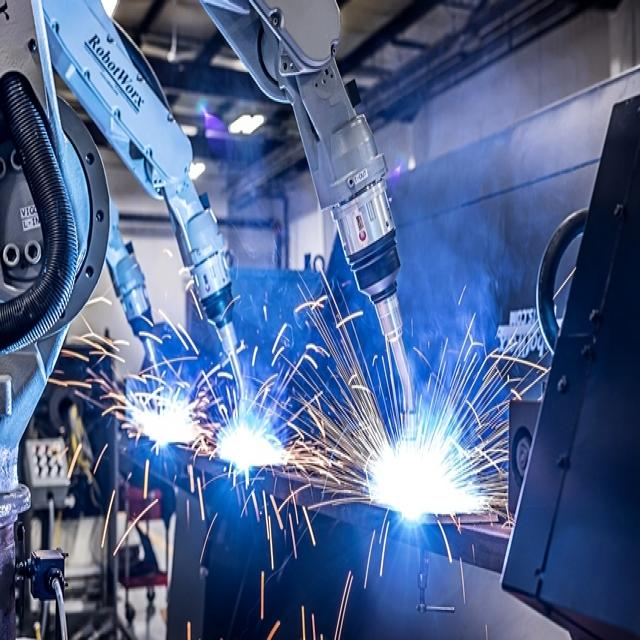welding: (377, 445, 480, 517), (216, 426, 286, 463), (133, 408, 194, 442)
